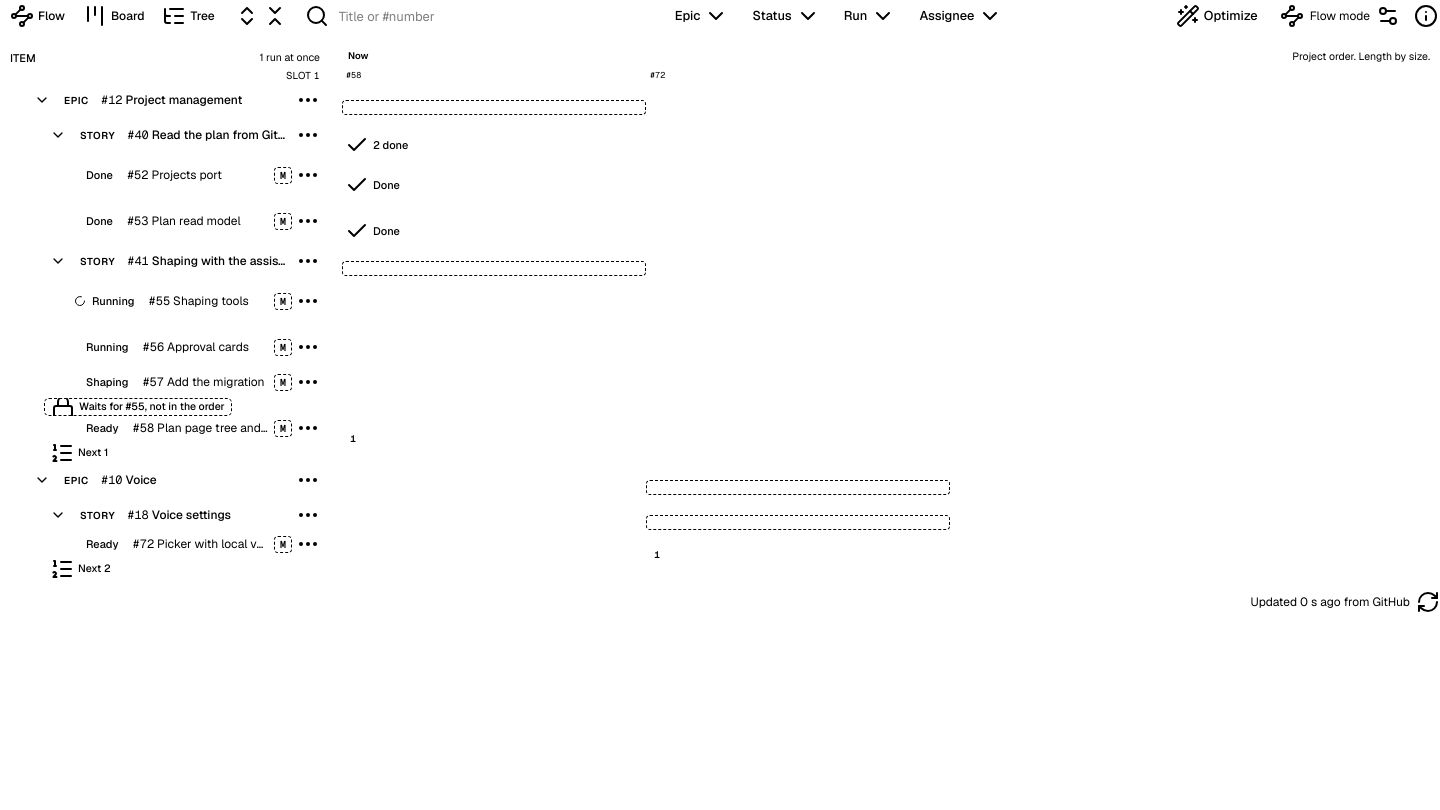
Test case: Flow mode links to the Plan mode settings
Click the button named "Legend" at (1426, 16), box [1412,2,1439,30]
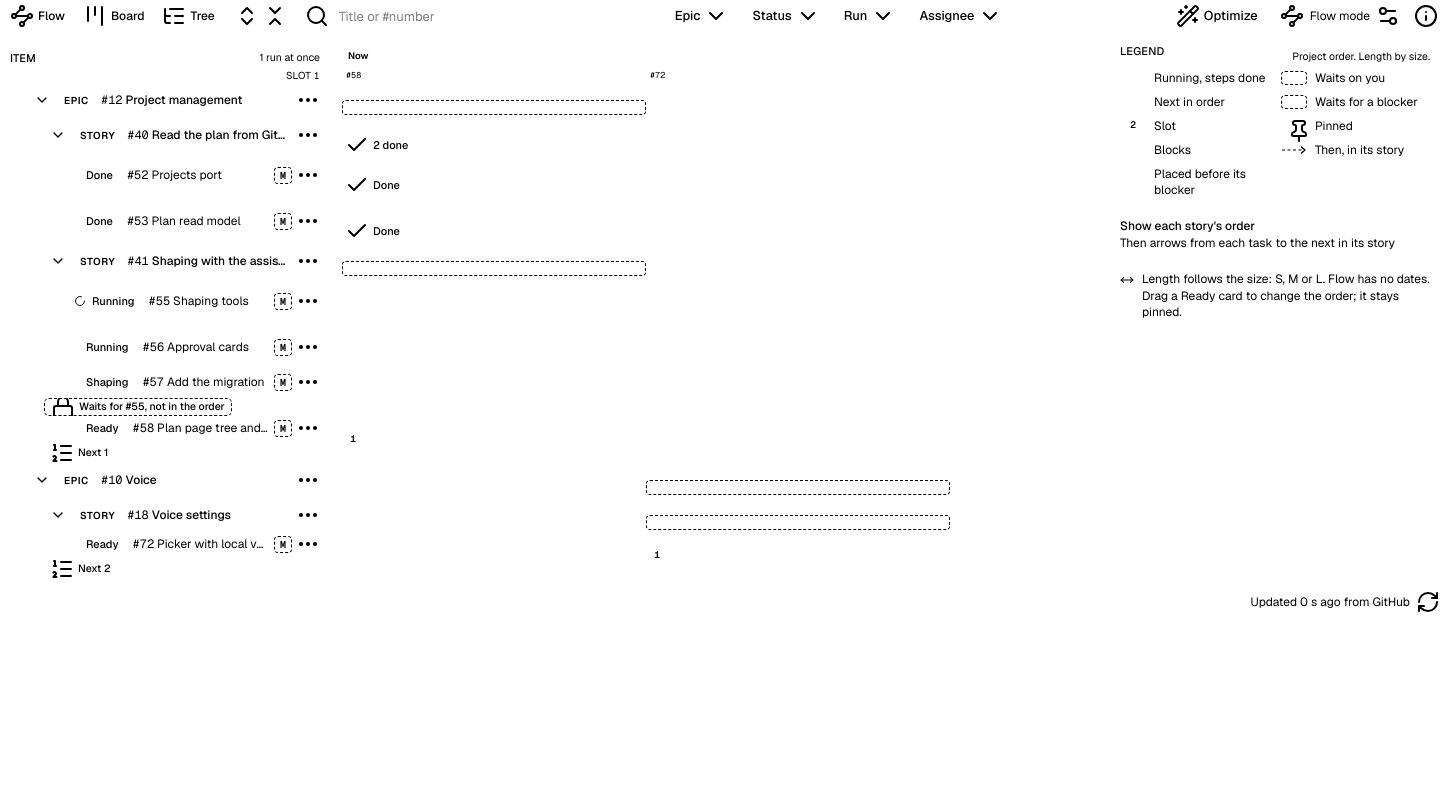
Expected: the list item "Running, steps done" is shown, [1154,70,1266,86]
Expected: the list item "Waits on you" is shown, [1281,70,1385,86]
Expected: the list item "Next in order" is shown, [1154,94,1225,110]
